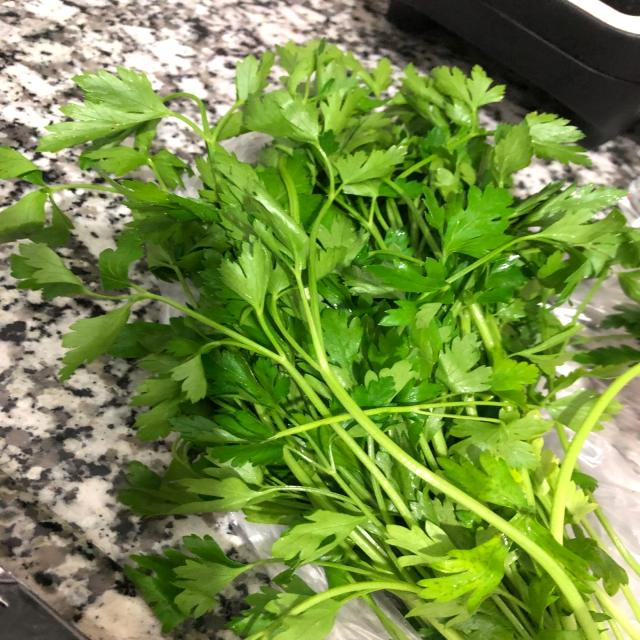parsley: (8, 49, 640, 640)
